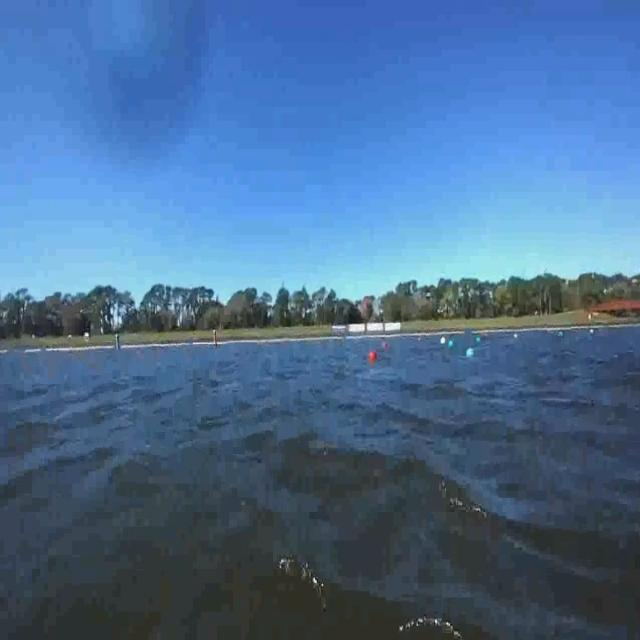red-buoy: (368, 350, 376, 363)
